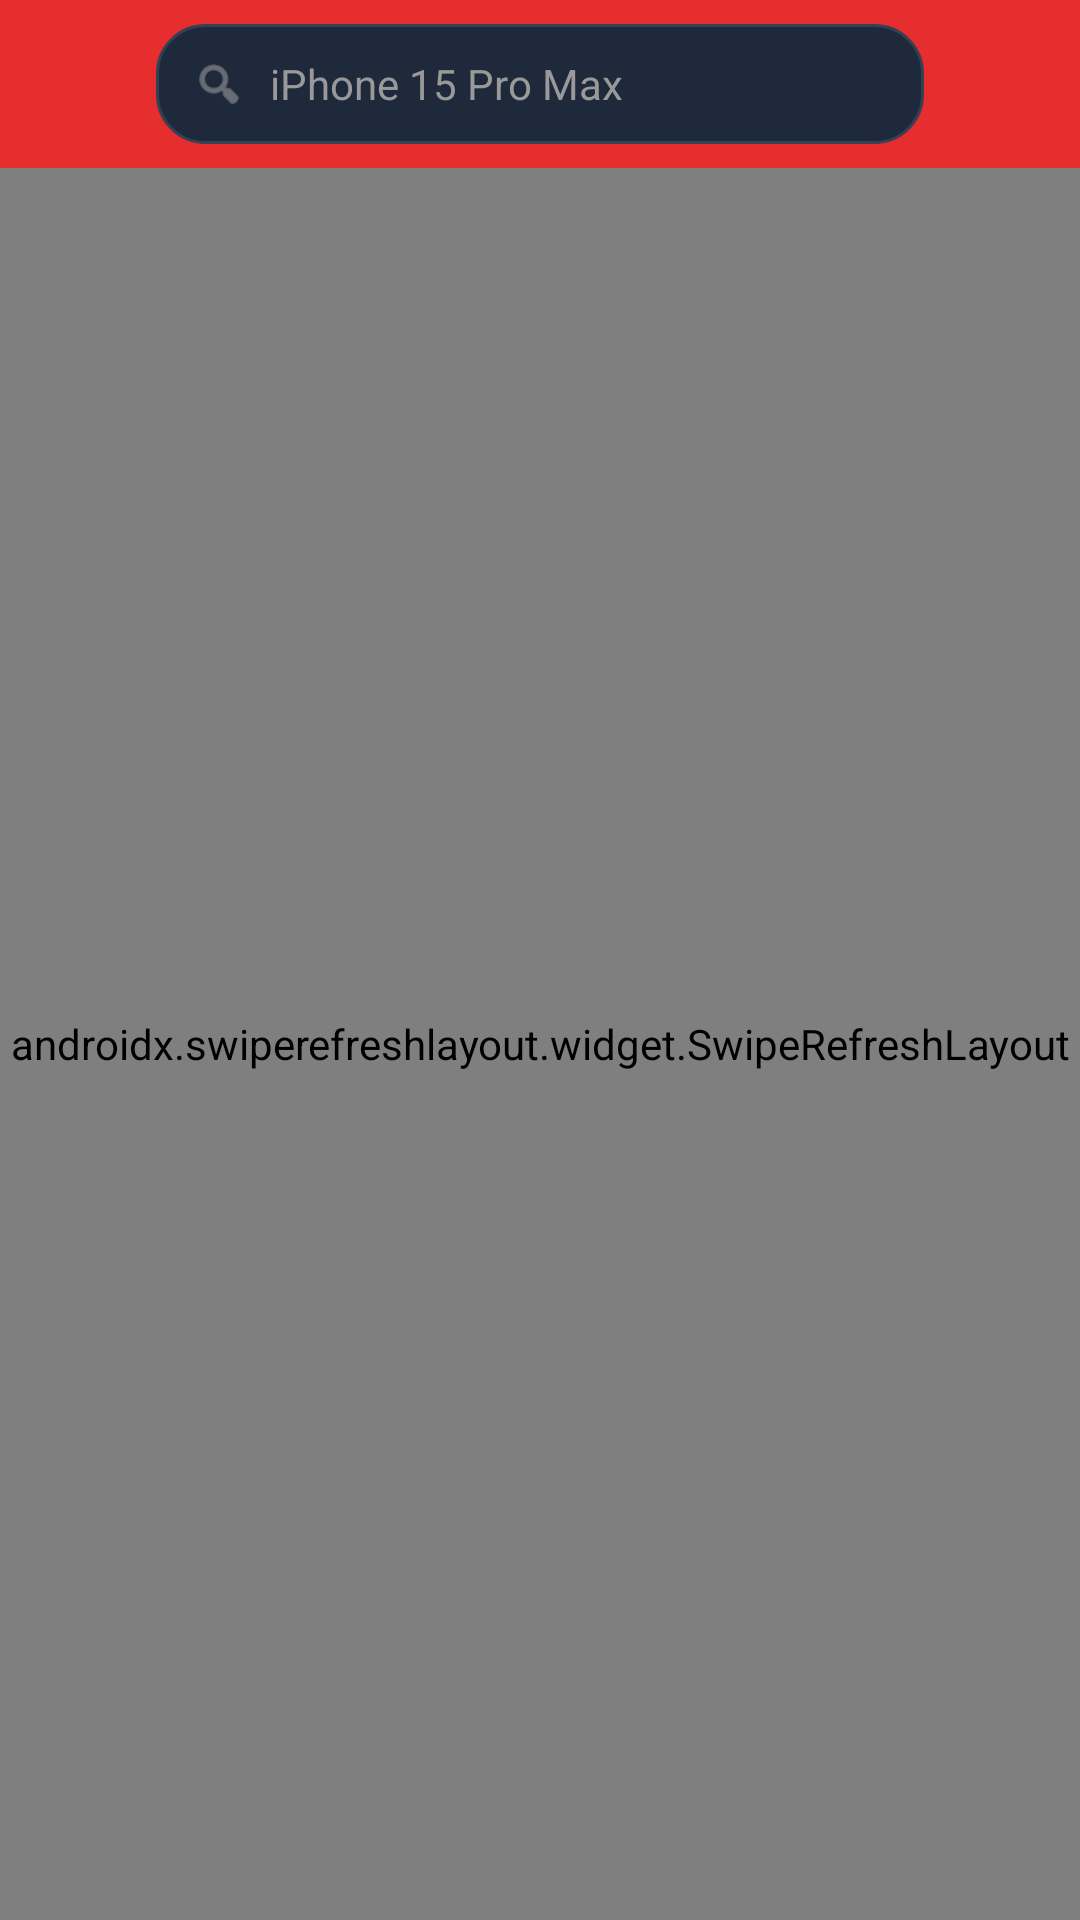

Point at icon controls on the screen. Image size 1080px x 1920px, points as [x,y].
search: [219,84]
